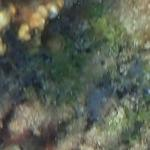dead: (2, 1, 147, 146)
